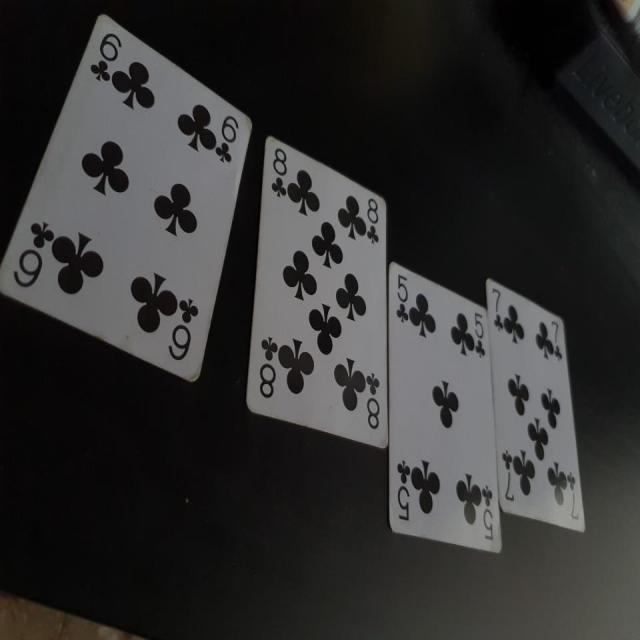5 Trefoils: (385, 261, 502, 559)
6 Trefoils: (0, 7, 256, 384)
7 Trefoils: (485, 274, 588, 538)
8 Trefoils: (245, 135, 392, 448)
